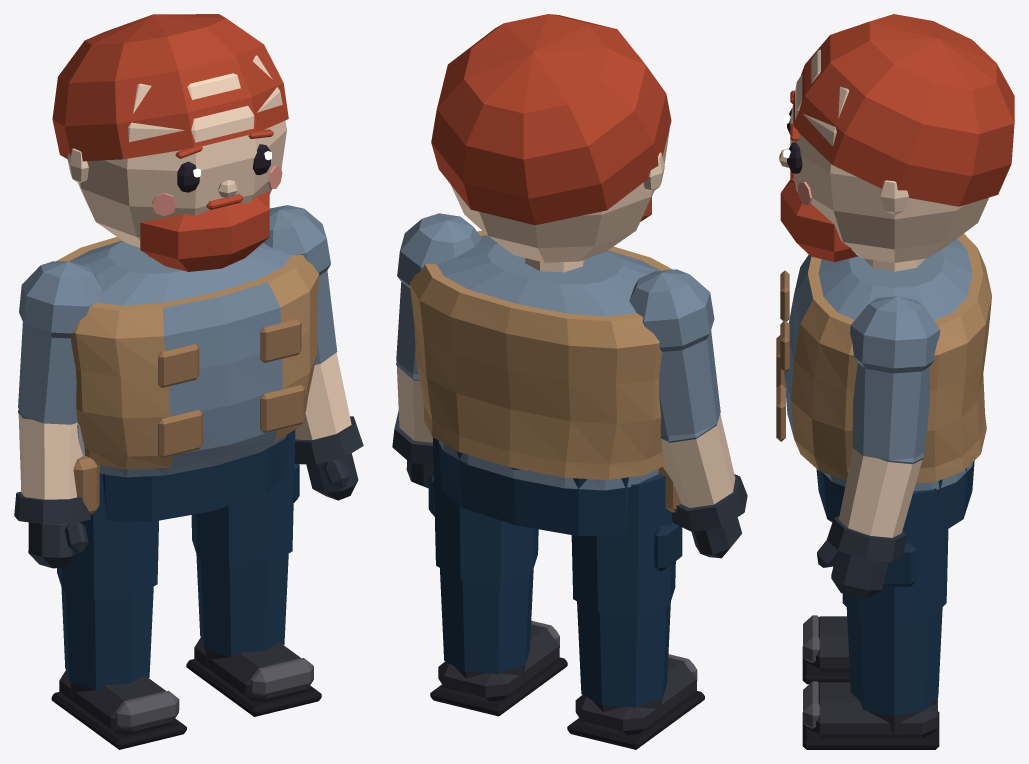
The model's file is rin-n2.glb.
3 renders of one model, left to right at view 1: azimuth 30°, elevation 25°; view 2: azimuth 150°, elevation 25°; view 3: azimuth 270°, elevation 25°, orthographic.
Visible parts, largest first — view 1: weste, haare, arm_r, kopf, bein_l, bein_r, arm_l, torso, becken, bart, taschen, schuh_r (+5 smaller); view 2: weste, haare, bein_r, arm_r, bein_l, torso, becken, arm_l, kopf, schuh_r, schuh_l, hand_r; view 3: haare, weste, arm_l, bein_l, kopf, torso, schuh_l, schuh_r, bart, becken, hand_l, taschen (+2 smaller).
Boxes of the visible parts, x1,y1,x2,y2 form: weste: (56,237,319,469); haare: (52,14,288,161); arm_r: (14,261,102,524); kopf: (67,55,286,247); bein_l: (191,430,299,657); bein_r: (57,472,158,690); arm_l: (263,205,363,464); torso: (69,240,290,477); becken: (103,433,289,521); bart: (140,191,269,271); taschen: (158,319,305,458); schuh_r: (51,671,186,749); weste: (409,230,672,479); haare: (431,14,671,225); bein_r: (571,474,682,707); arm_r: (629,269,747,531); bein_l: (428,437,538,673); torso: (437,235,660,490); becken: (438,440,628,536); arm_l: (392,213,481,465); kopf: (450,54,669,262); schuh_r: (567,654,704,749); schuh_l: (430,620,567,716); hand_r: (691,517,741,558); haare: (793,14,1014,206); weste: (784,233,991,483); arm_l: (826,296,940,562); bein_l: (842,488,948,715); kopf: (790,49,988,262); torso: (818,239,972,491); schuh_l: (802,681,939,749); schuh_r: (802,615,939,684); bart: (780,170,857,261); becken: (816,461,974,535); hand_l: (817,540,888,598); taschen: (776,270,789,441).
Bounding box in the file's own units: 0.012 × 0.0226 × 0.00726.
